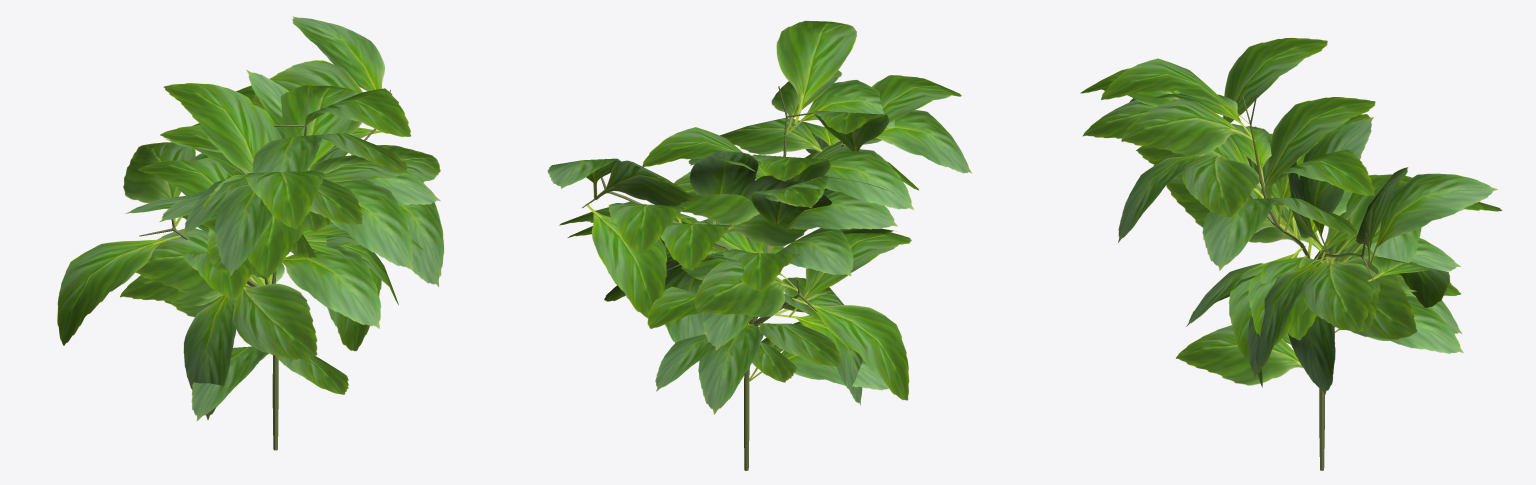
Rendered from Basil Plant.glb.
The picture shows the model from 3 angles, left to right: view 1: azimuth 30°, elevation 25°; view 2: azimuth 150°, elevation 25°; view 3: azimuth 270°, elevation 25°; orthographic projection. The views are drawn at different scales.
Parts seen in each view (by area): view 1: Basil Plant; view 2: Basil Plant; view 3: Basil Plant.
Part boxes in pixels (bbox=[...]): Basil Plant: bbox=[57, 16, 443, 450]; Basil Plant: bbox=[547, 21, 971, 470]; Basil Plant: bbox=[1080, 38, 1502, 470].
Size of the model in its own units: 0.1926 by 0.1875 by 0.2061.
2 materials, 1 textured.
